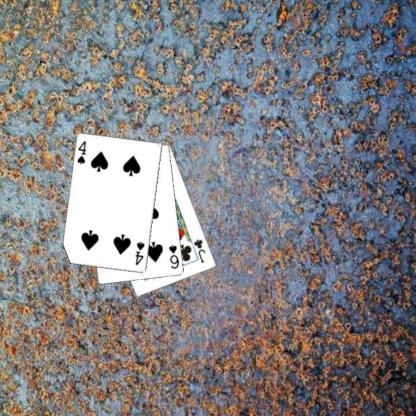4S: (74, 138, 88, 166), (133, 239, 146, 266)
6S: (166, 242, 180, 270)
JC: (191, 237, 207, 264)
